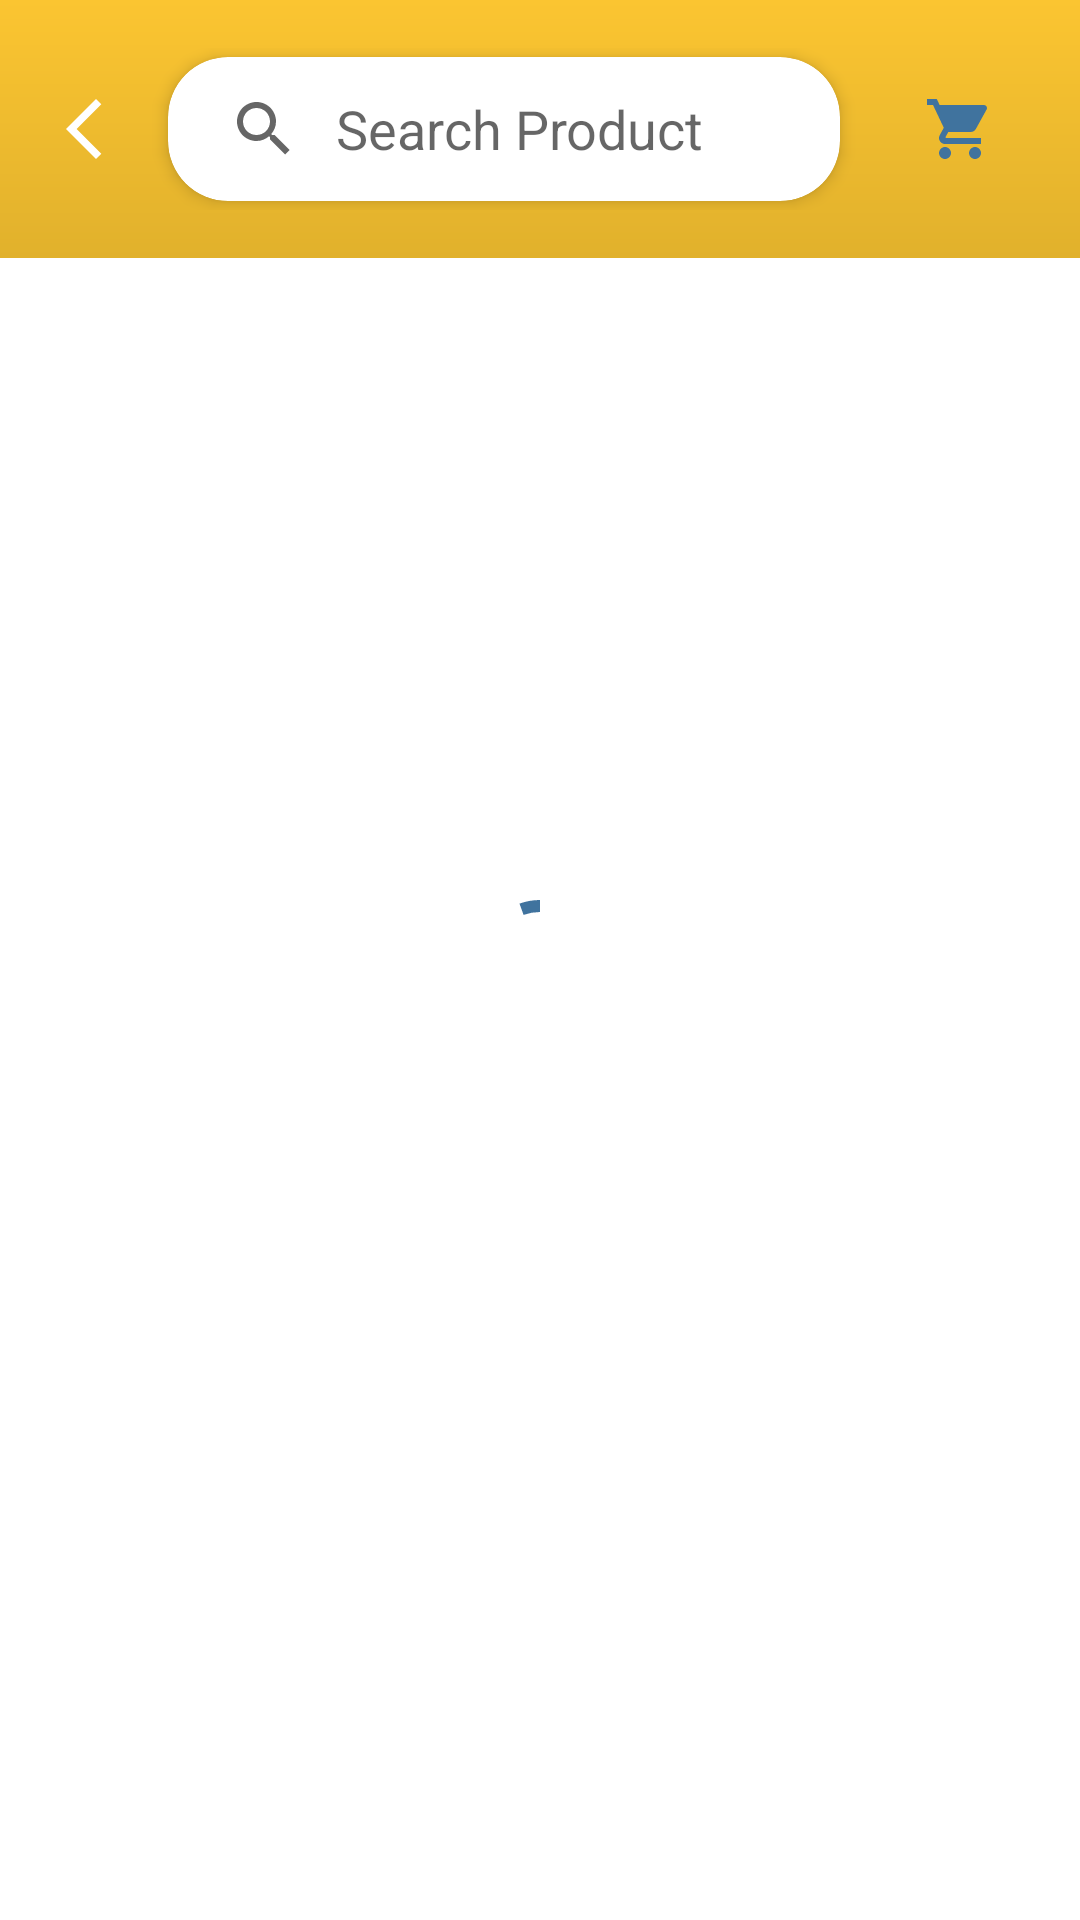

Icons on this 1080w x 1920h Android screen, each with the point to tap as point (x, y):
arrow back: point (83, 129)
shopping cart: point (957, 129)
